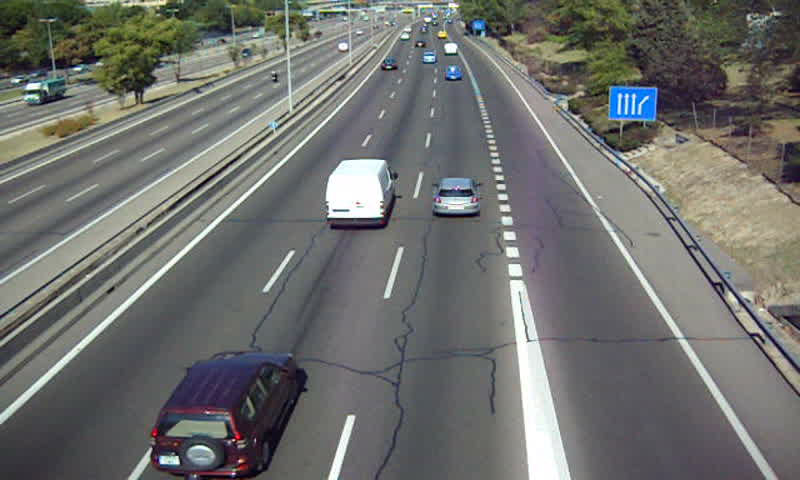car: (150, 352, 299, 475), (433, 178, 480, 216), (444, 63, 463, 81), (420, 50, 439, 64), (379, 58, 396, 71)
van: (327, 159, 395, 229)
